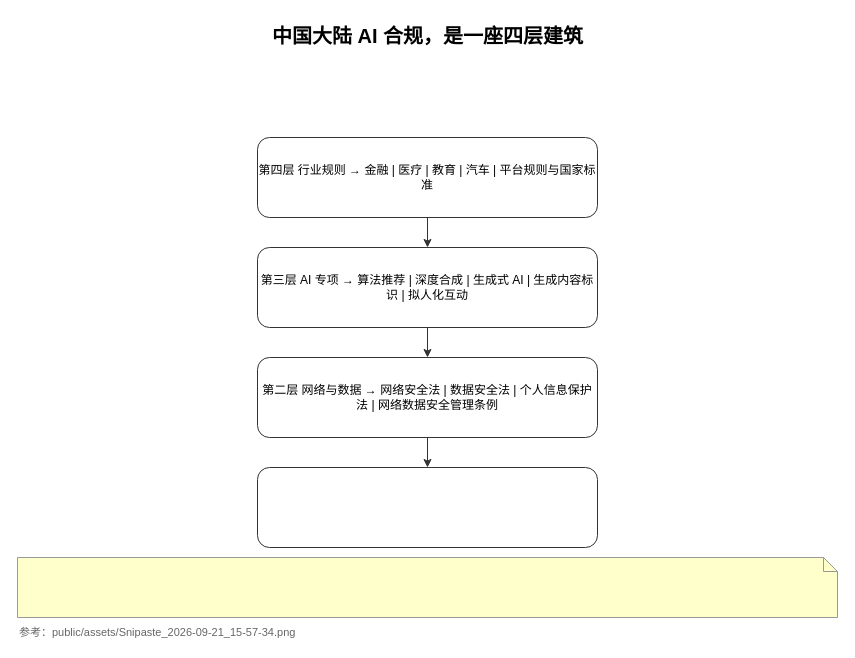
Image size: 855x658. Some labels were removed from this diagram. Each missing label, with the box of its shape:
先看业务和数据，再判断落在哪一层: (16, 556, 838, 618)
第一层 基础权利 → 民法典 | 著作权法 | 劳动合同法 | 反不正当竞争: (256, 466, 598, 548)
